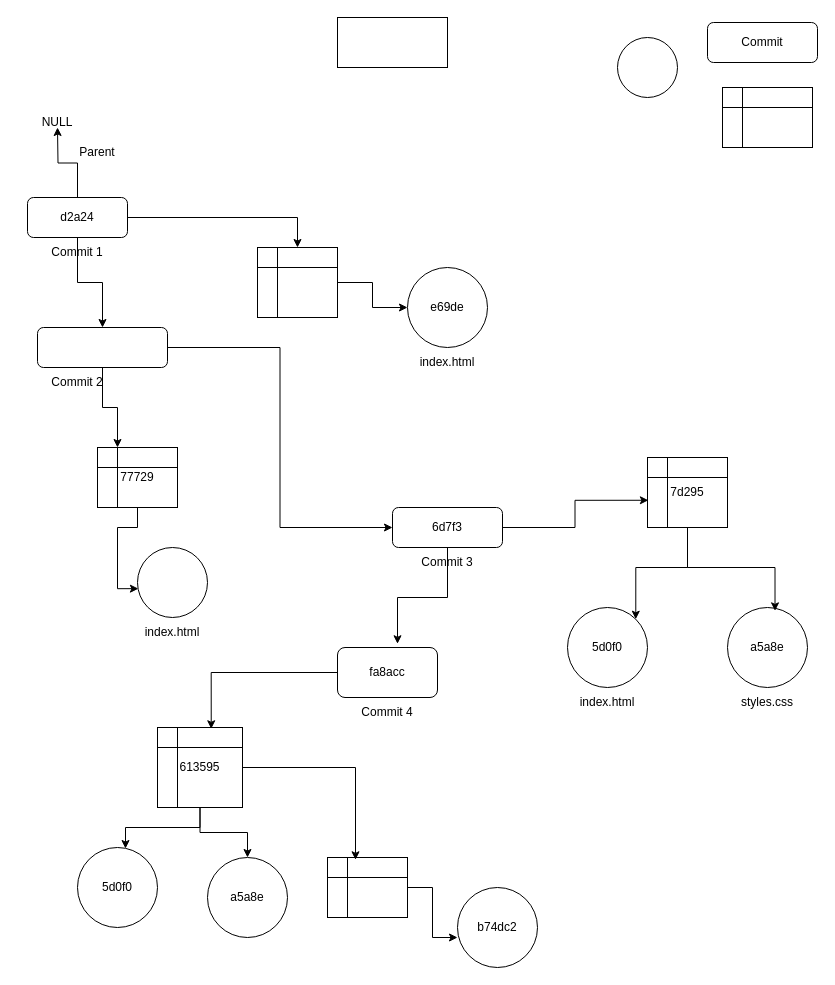
The diagram is 835 pixels wide and 985 high, and some of its shapes have lost their labels. The shapes that lost their labels are listed below. From the top down, each one's box as (x1, y1, x2, y2) in pixels, then its label:
(336, 16, 448, 68): Git-Repo
(616, 36, 678, 98): Blob
(722, 86, 812, 148): Tree
(256, 246, 338, 318): 0a556
(36, 326, 168, 368): 89ace
(136, 546, 208, 618): 31eb2
(326, 856, 408, 918): f36deb
